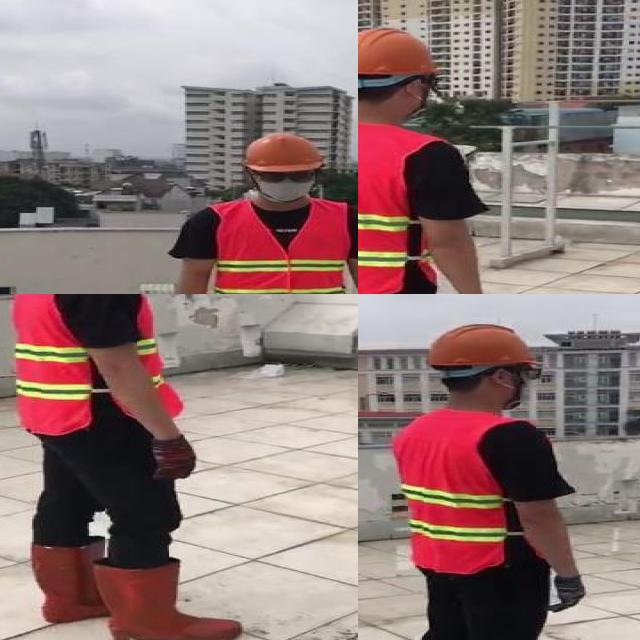boots: (92, 556, 243, 640), (25, 542, 123, 622)
face_mask: (254, 164, 318, 205)
glasses: (254, 168, 318, 186)
hand_glove: (146, 439, 199, 480), (549, 572, 585, 614)
head_helmet: (422, 320, 540, 370), (358, 24, 437, 77), (238, 132, 326, 172)
person: (4, 294, 253, 640), (371, 316, 599, 640), (358, 25, 503, 294), (161, 130, 358, 294)
vest: (14, 294, 177, 432), (392, 409, 509, 573), (210, 201, 354, 294), (358, 122, 432, 294)
